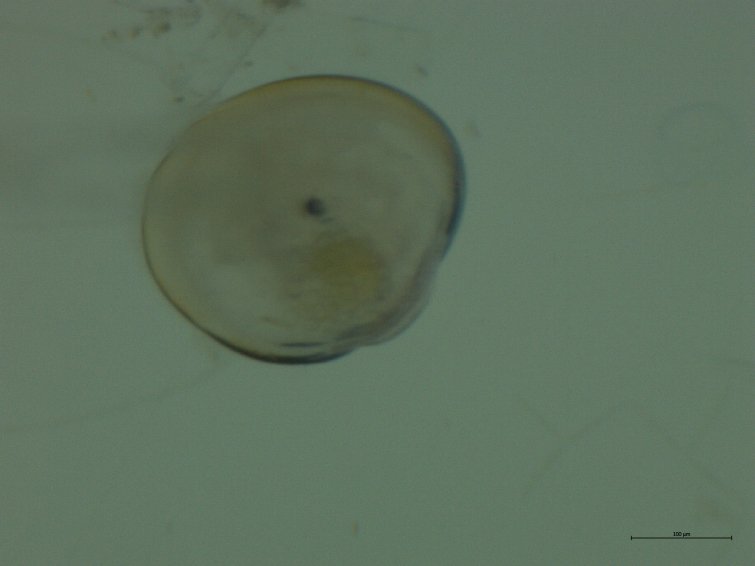oyster: (130, 66, 477, 376)
